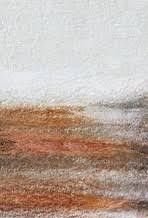Corrosion: (1, 91, 148, 218)
